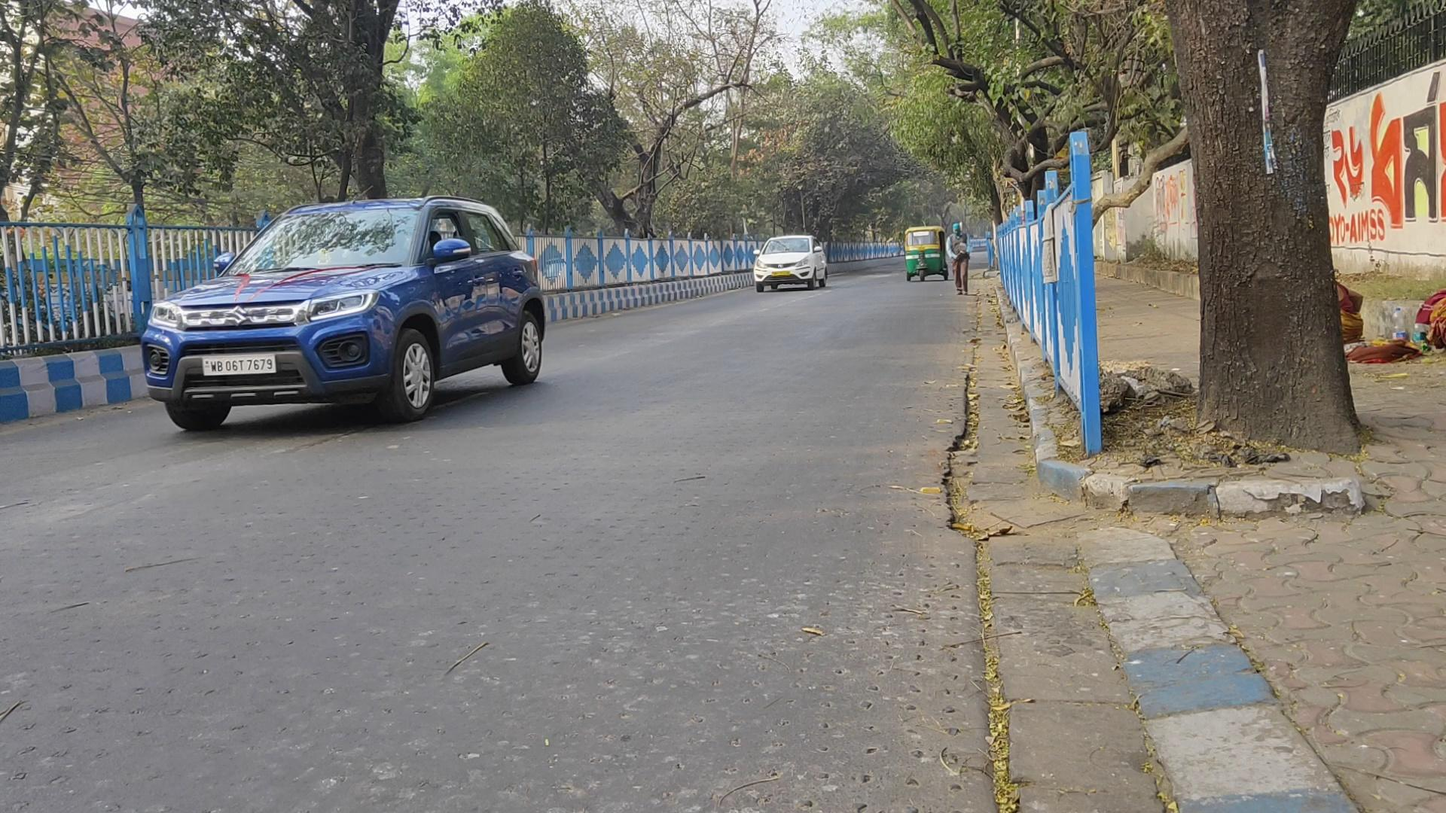Auto: (902, 224, 947, 283)
car: (143, 193, 545, 434), (751, 233, 829, 294)
